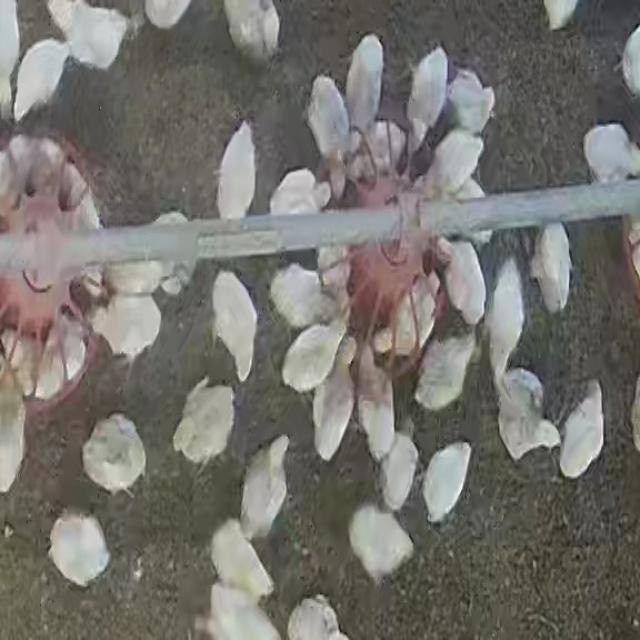chicken: (77, 409, 151, 503), (302, 71, 355, 202), (170, 377, 239, 472), (22, 316, 94, 406), (494, 368, 560, 464), (208, 267, 262, 381), (277, 313, 349, 394), (373, 274, 445, 354), (238, 431, 291, 539), (312, 338, 358, 462), (484, 257, 526, 390), (347, 502, 414, 585), (207, 520, 274, 603), (92, 292, 165, 365), (433, 231, 489, 326), (355, 342, 399, 462), (56, 2, 131, 72), (556, 378, 606, 481), (413, 332, 476, 413), (212, 116, 262, 218), (47, 511, 110, 590), (12, 40, 69, 124), (267, 262, 336, 330), (344, 34, 385, 147), (404, 43, 448, 147), (420, 442, 474, 526), (422, 130, 484, 201), (530, 224, 573, 319), (581, 121, 639, 186), (355, 119, 411, 183), (378, 432, 421, 514), (440, 174, 490, 240), (268, 167, 329, 220)
